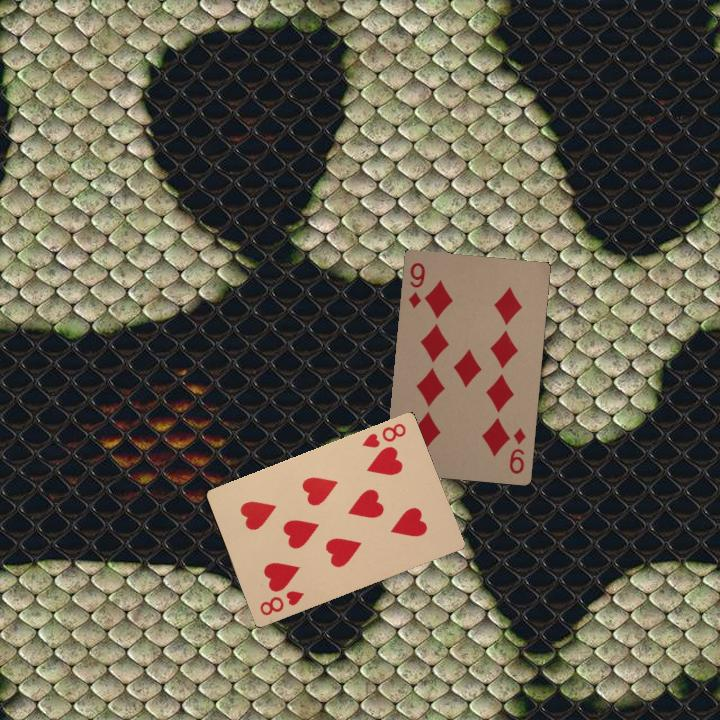8h: (256, 587, 307, 618), (359, 419, 409, 450)
9d: (505, 424, 528, 477), (405, 258, 428, 311)
